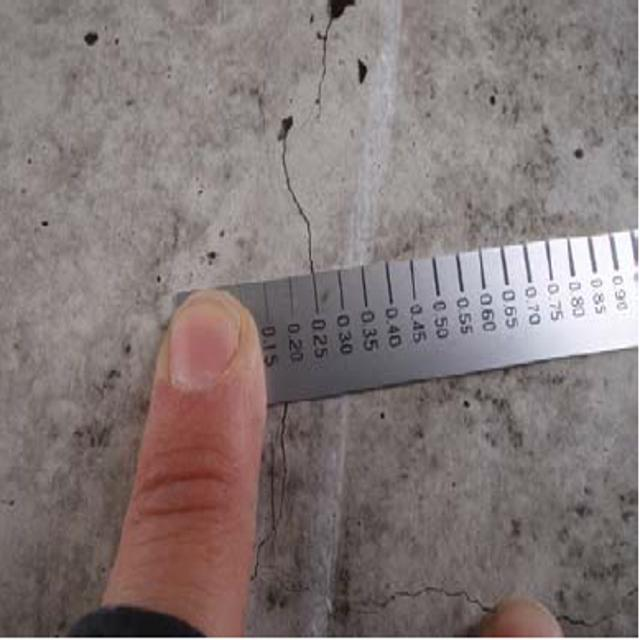crack: (270, 0, 346, 270), (342, 584, 637, 634)
